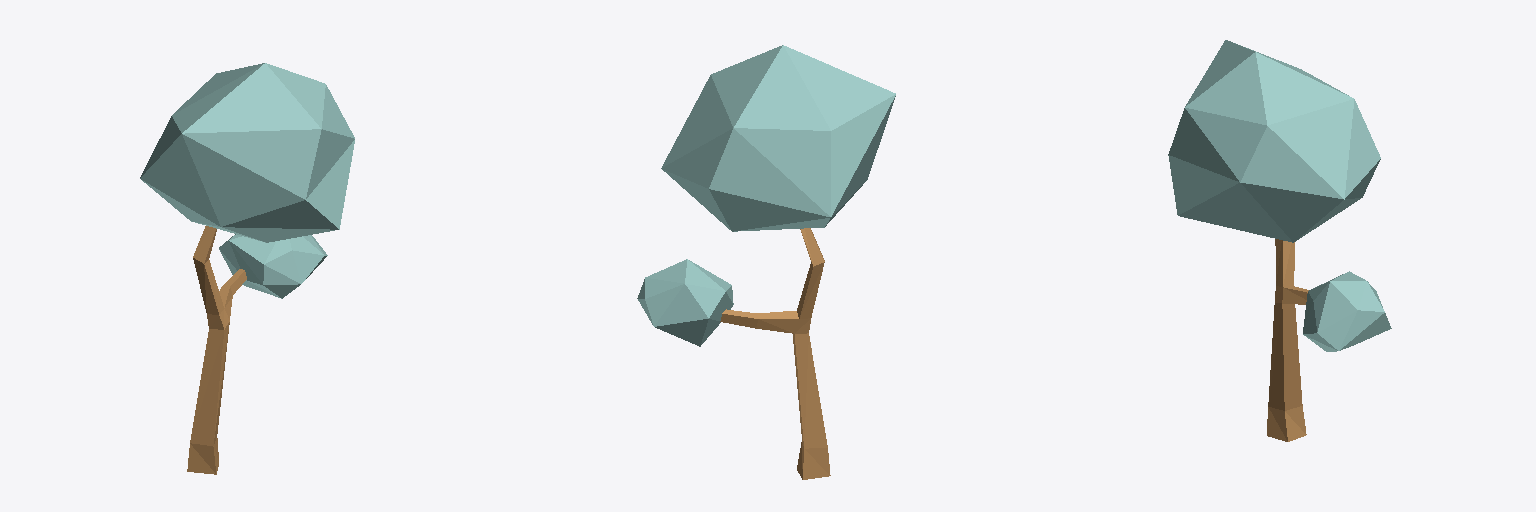
File: baum_klein.obj
3 renders of one model, left to right at view 1: azimuth 30°, elevation 25°; view 2: azimuth 150°, elevation 25°; view 3: azimuth 270°, elevation 25°, orthographic.
Parts seen in each view (by area): view 1: Normal_Tree01.001; view 2: Normal_Tree01.001; view 3: Normal_Tree01.001.
Boxes of the visible parts, box(x1,y1,x2,y2) form: Normal_Tree01.001: box(140, 63, 354, 474); Normal_Tree01.001: box(637, 45, 895, 479); Normal_Tree01.001: box(1168, 40, 1391, 441).
Bounding box in the file's own units: 309 × 589 × 294.